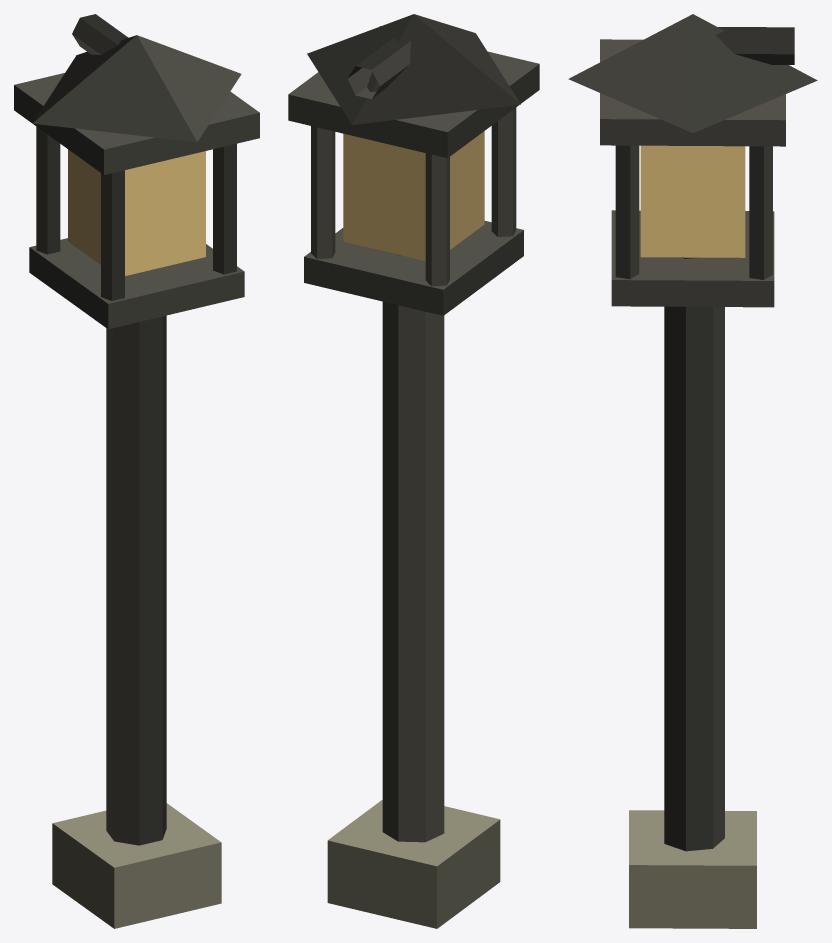
3 views of the same model, side by side, from view 1: azimuth 30°, elevation 25°; view 2: azimuth 150°, elevation 25°; view 3: azimuth 270°, elevation 25° (orthographic). The views are drawn at different scales.
Parts seen in each view (by area): view 1: b36e549eb74f86d308da7e8a6712a6cb1bb50f2579aea6f6d236865cae1b; view 2: b36e549eb74f86d308da7e8a6712a6cb1bb50f2579aea6f6d236865cae1b; view 3: b36e549eb74f86d308da7e8a6712a6cb1bb50f2579aea6f6d236865cae1b.
Part boxes in pixels (x1,y1,x2,y2): b36e549eb74f86d308da7e8a6712a6cb1bb50f2579aea6f6d236865cae1b: (14, 14, 259, 928); b36e549eb74f86d308da7e8a6712a6cb1bb50f2579aea6f6d236865cae1b: (288, 14, 539, 928); b36e549eb74f86d308da7e8a6712a6cb1bb50f2579aea6f6d236865cae1b: (568, 14, 817, 928).
Size of the model in its own units: 0.86 by 3.37 by 0.86.
Materials: 2 (1 with a texture image).
